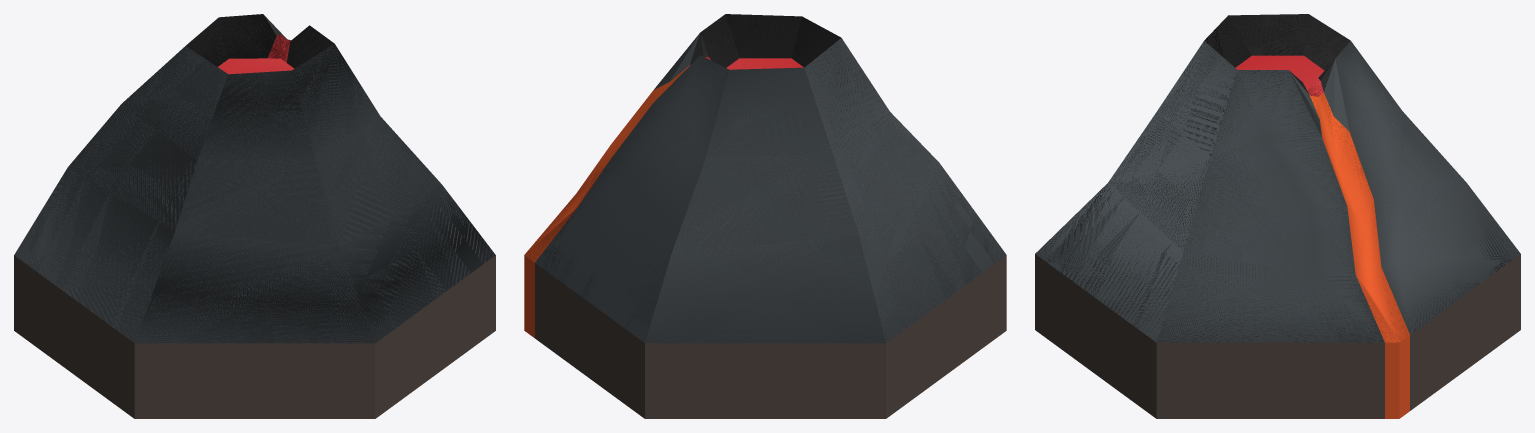
The model's file is volcano.glb.
The picture shows the model from 3 angles, left to right: view 1: azimuth 30°, elevation 25°; view 2: azimuth 150°, elevation 25°; view 3: azimuth 270°, elevation 25°; orthographic projection.
Parts seen in each view (by area): view 1: Hex; view 2: Hex; view 3: Hex.
Part boxes in pixels (x1,y1,x2,y2): Hex: (14, 14, 495, 418); Hex: (524, 14, 1006, 418); Hex: (1035, 14, 1520, 418).
Bounding box in the file's own units: 1 × 0.7592 × 1.15.
Materials: 1 (1 with a texture image).
